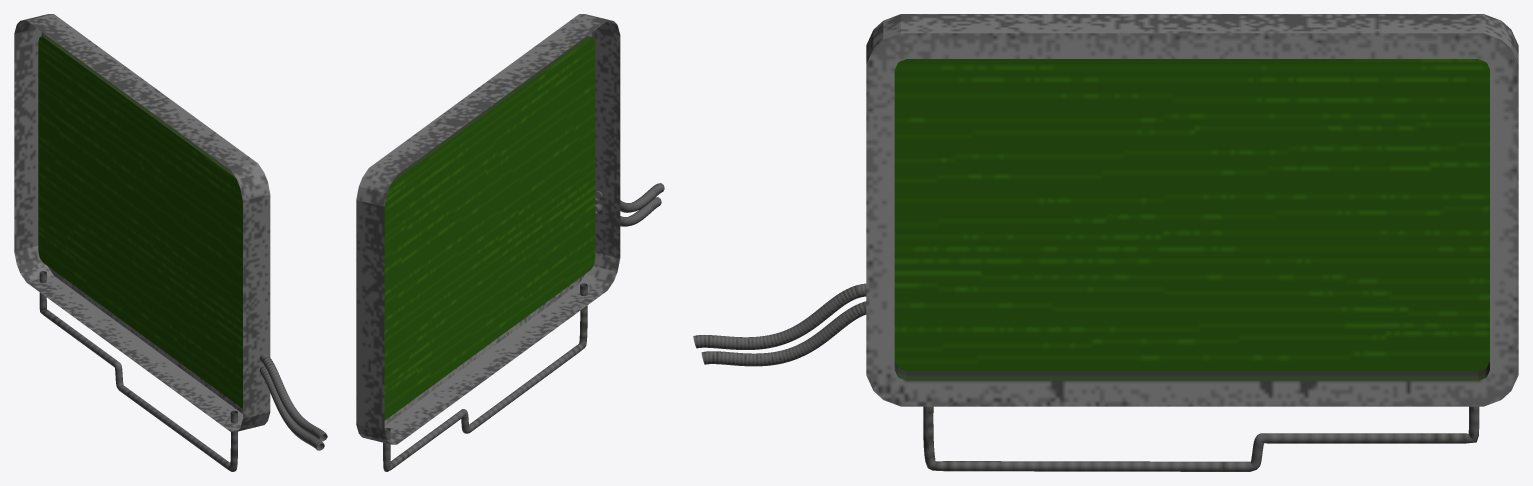
File: terminal.fbx
3 views of the same model, side by side, from view 1: azimuth 30°, elevation 25°; view 2: azimuth 150°, elevation 25°; view 3: azimuth 270°, elevation 25° (orthographic). The views are drawn at different scales.
Visible parts, largest first — view 1: Terminal; view 2: Terminal; view 3: Terminal.
Part boxes in pixels (<box>): Terminal: <box>14,14,327,471</box>; Terminal: <box>356,14,664,471</box>; Terminal: <box>693,14,1518,471</box>.
Size of the model in its own units: 132 by 1440 by 2403.
